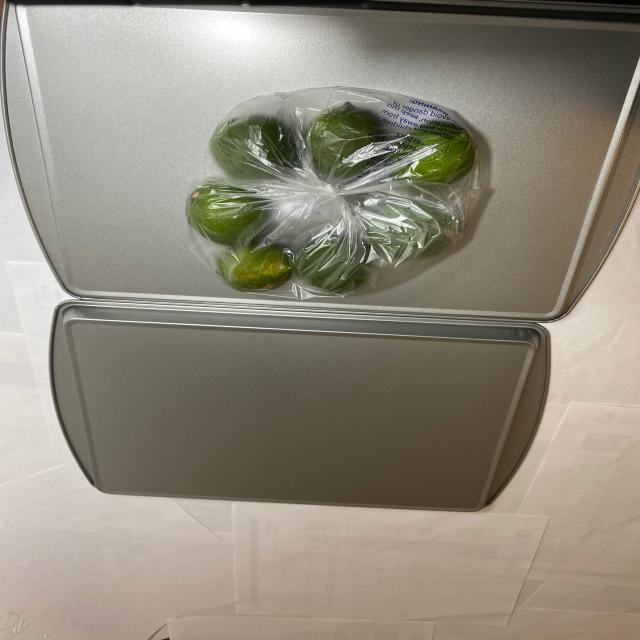lemon: (192, 111, 472, 294)
